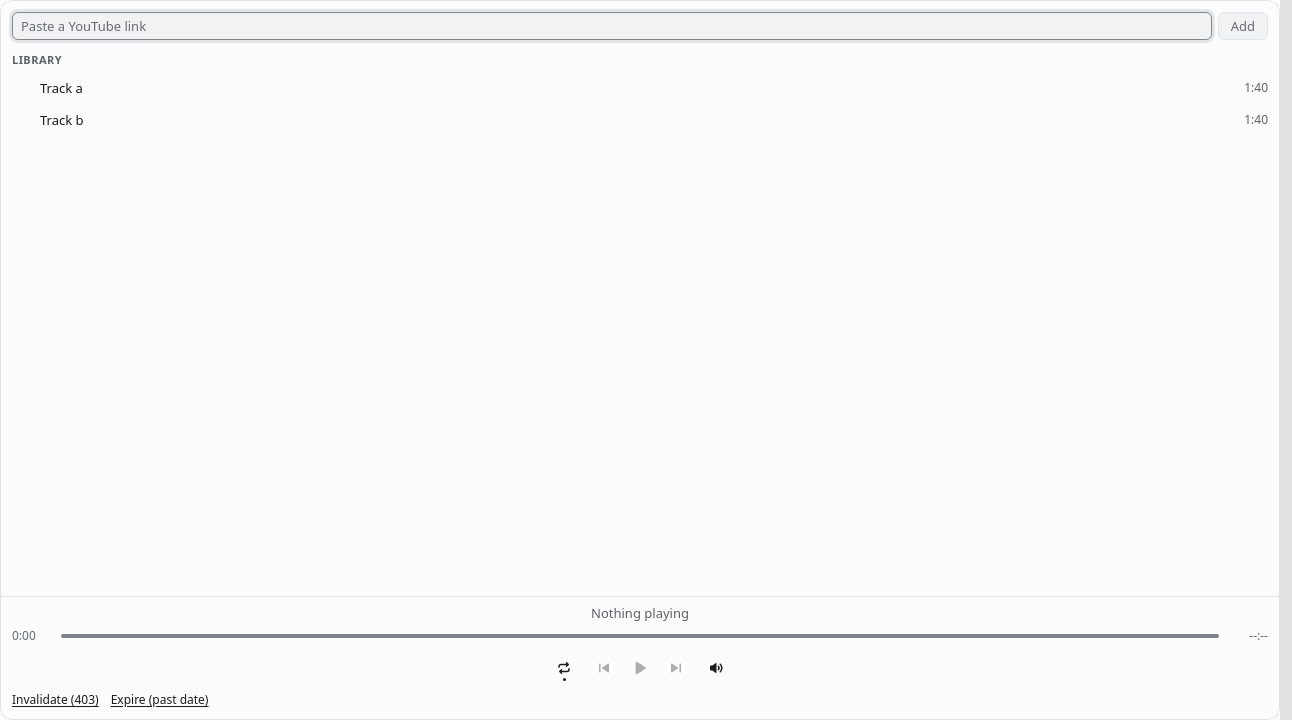
Test: adding a track › doesn't duplicate a track already in the library: it says so and focuses its row
The image size is (1292, 720).
Expected: the text "Track a" is shown, x1=40 y1=79 x2=83 y2=97
Type "https://youtu.be/b" into the field named "YouTube URL".
click(612, 26); type("https://youtu.be/b")  # box x1=12 y1=12 x2=1212 y2=40
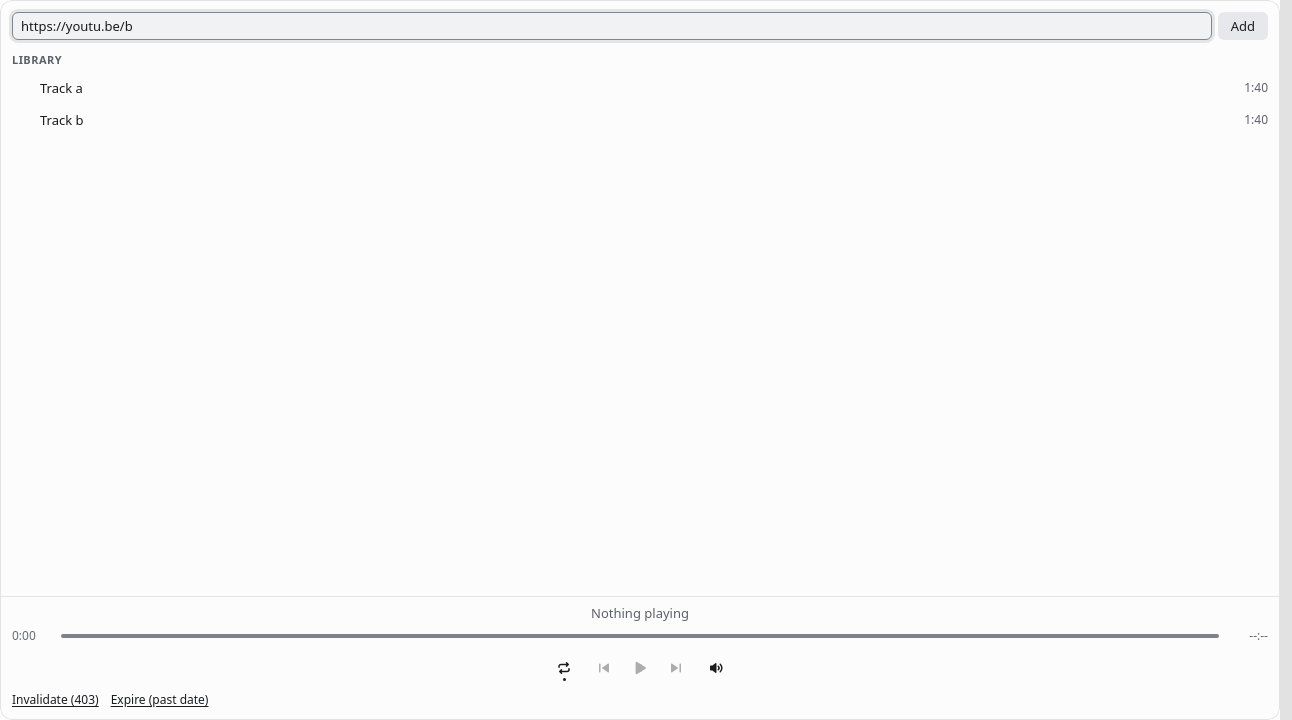
Submit the form named "YouTube URL", box x1=12 y1=12 x2=1268 y2=40
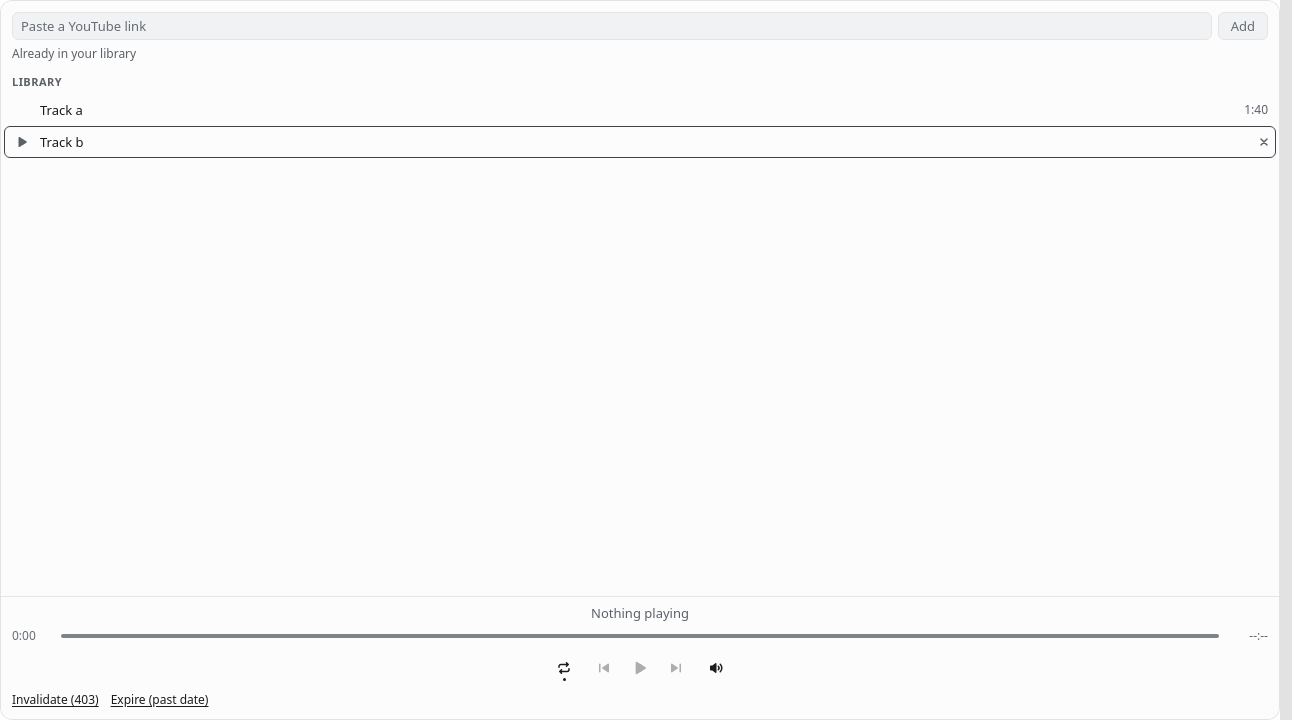
Expected: the number of list items is 2, x1=40 y1=101 x2=1268 y2=119; x1=4 y1=126 x2=1276 y2=158
Expected: the text "Already in your library" is shown, x1=12 y1=45 x2=136 y2=62
